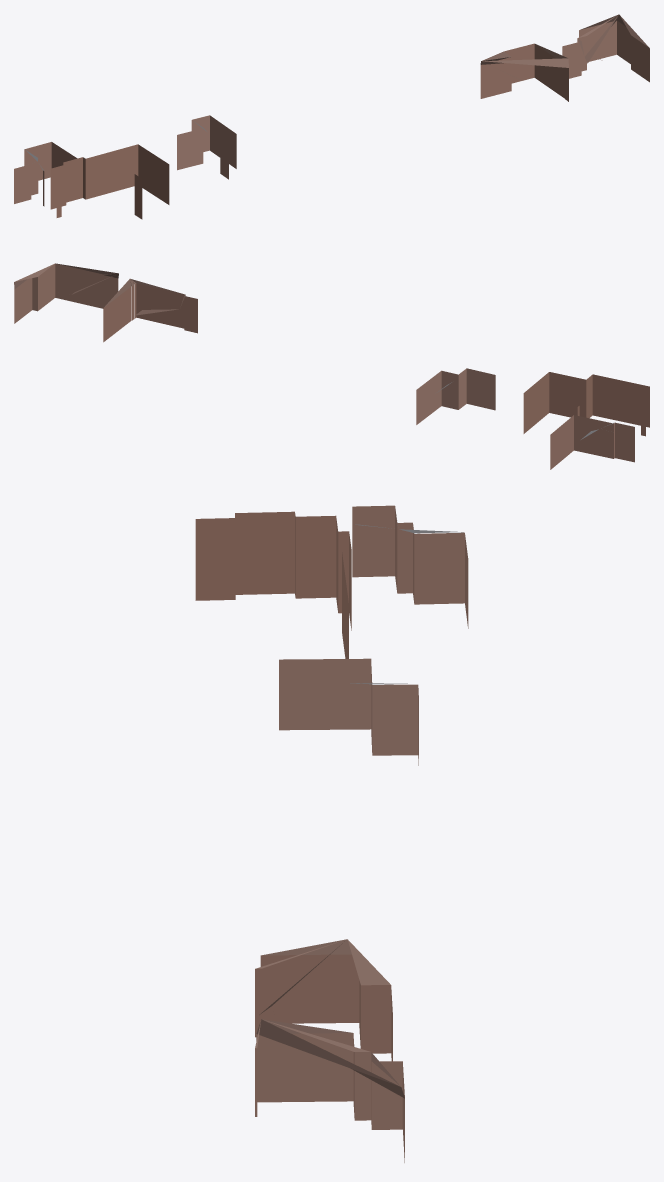
Rendered from c_1648_17826_buildings_residential.glb.
3 renders of one model, top to bottom at view 1: azimuth 30°, elevation 25°; view 2: azimuth 150°, elevation 25°; view 3: azimuth 270°, elevation 25°, orthographic. The views are drawn at different scales.
Parts seen in each view (by area): view 1: geometry_0; view 2: geometry_0; view 3: geometry_0.
Part boxes in pixels (bbox=[...]): geometry_0: bbox=[14, 14, 649, 219]; geometry_0: bbox=[14, 263, 649, 469]; geometry_0: bbox=[195, 505, 468, 1162].
Bounding box in the file's own units: 171 × 11.08 × 33.22.
